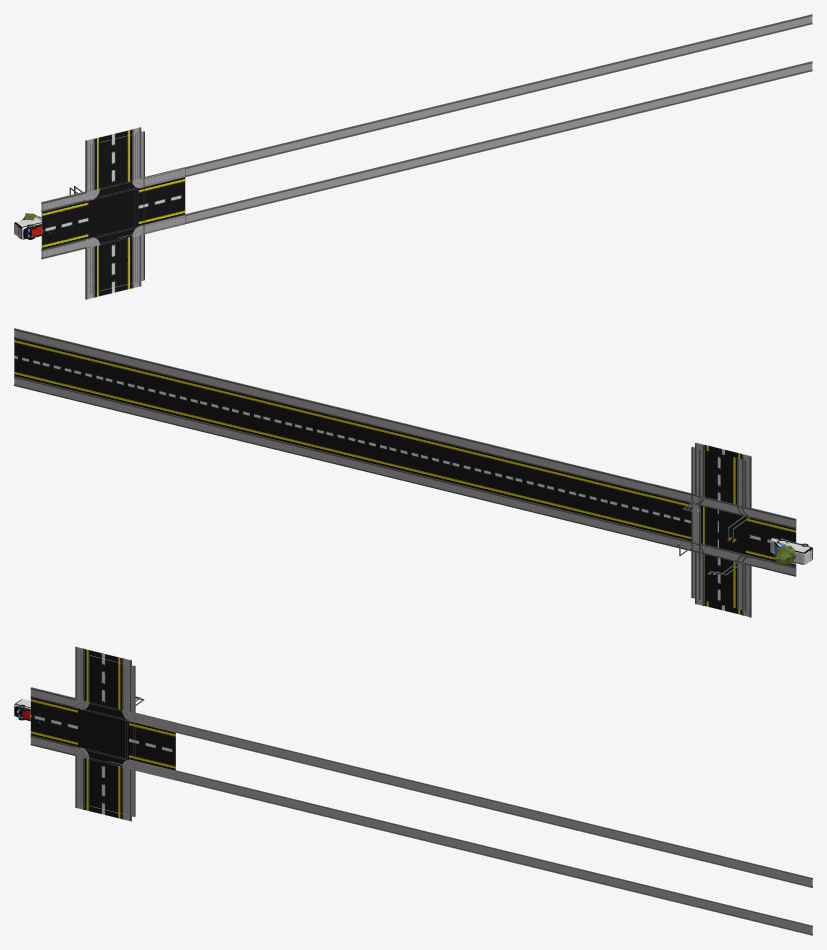
Rendered from Road.fbx.
3 views of the same model, one above another, from view 1: azimuth 30°, elevation 25°; view 2: azimuth 150°, elevation 25°; view 3: azimuth 330°, elevation 25° (orthographic).
Parts seen in each view (by area): view 1: Road, Crossroad.001, Crossroad.002; view 2: Road, Crossroad.002, Crossroad.001, Car.003; view 3: Road, Crossroad.001, Crossroad.002.
Part boxes in pixels (<box>): Road: <box>42,14,812,257</box>; Crossroad.001: <box>41,127,185,299</box>; Crossroad.002: <box>42,131,144,293</box>; Road: <box>14,328,795,575</box>; Crossroad.002: <box>682,447,795,611</box>; Crossroad.001: <box>650,442,796,617</box>; Car.003: <box>770,538,812,564</box>; Road: <box>31,701,812,935</box>; Crossroad.001: <box>31,646,176,821</box>; Crossroad.002: <box>30,653,144,816</box>.
Size of the model in its own units: 80717 by 15517 by 3494.
11 materials, 5 textured.
